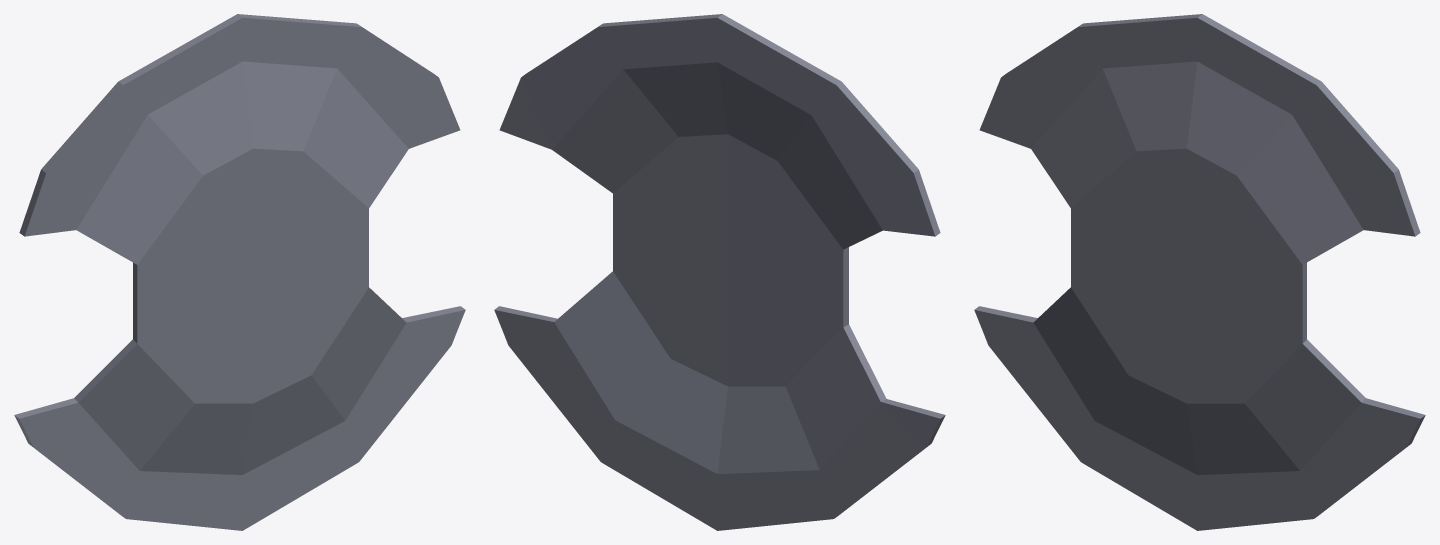
The model's file is XifistaShield.fbx.
The picture shows the model from 3 angles, left to right: view 1: azimuth 30°, elevation 25°; view 2: azimuth 150°, elevation 25°; view 3: azimuth 330°, elevation 25°; orthographic projection.
Parts seen in each view (by area): view 1: Shield.002; view 2: Shield.002; view 3: Shield.002.
Part boxes in pixels (bbox=[...]): Shield.002: bbox=[14, 14, 465, 530]; Shield.002: bbox=[494, 14, 945, 530]; Shield.002: bbox=[974, 14, 1425, 530].
Bounding box in the file's own units: 150 × 165 × 9.23.
